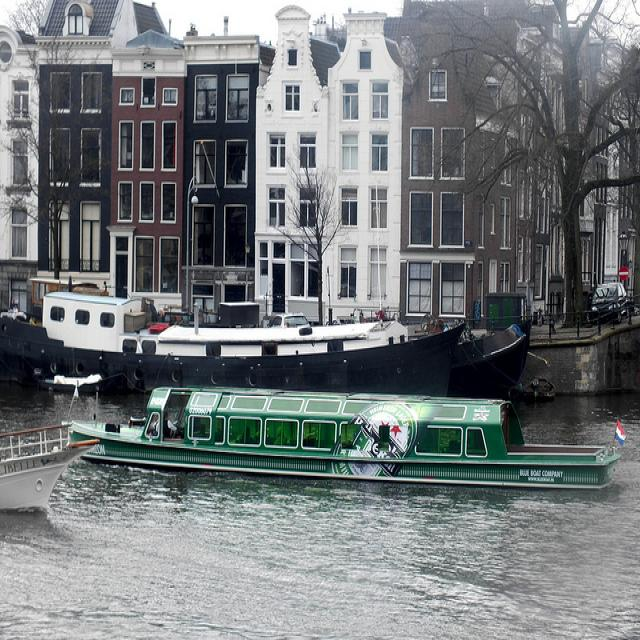Vehicle: (589, 283, 631, 326), (268, 314, 310, 327)
